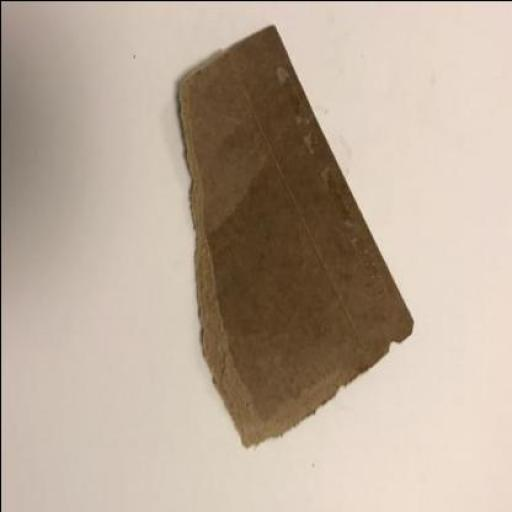cardboard: (176, 21, 414, 445)
